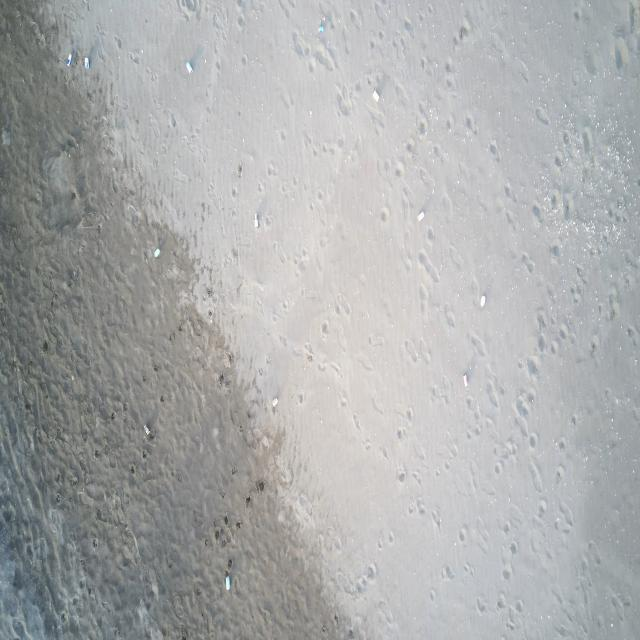tin-and-aluminum-cans: (371, 89, 381, 103), (186, 61, 193, 76), (416, 210, 424, 223), (272, 395, 279, 408), (144, 422, 150, 437), (318, 22, 325, 34), (462, 374, 468, 388), (84, 56, 90, 70), (225, 576, 230, 592), (67, 52, 72, 68), (254, 213, 259, 229), (480, 294, 486, 307), (154, 248, 160, 260)
